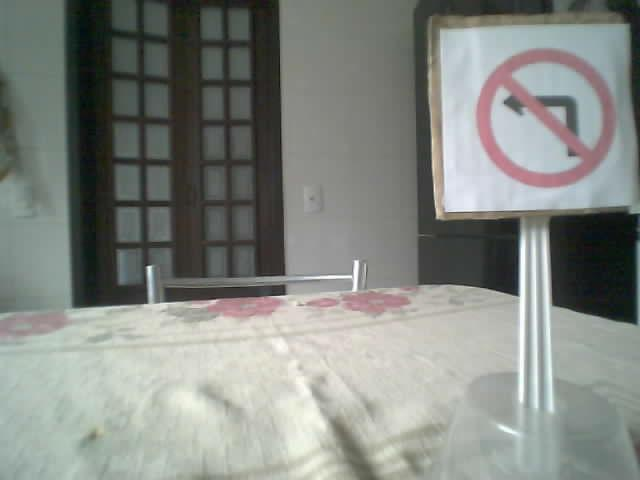R-4a_proibido-esquerda: (473, 46, 613, 188)
